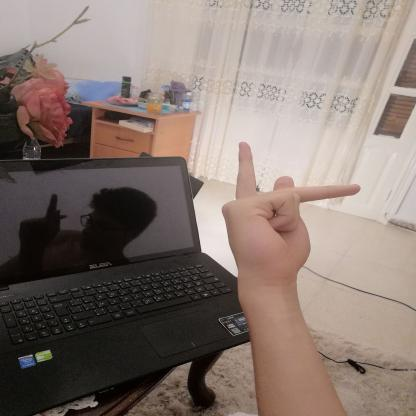DHAA: (212, 136, 372, 287)
